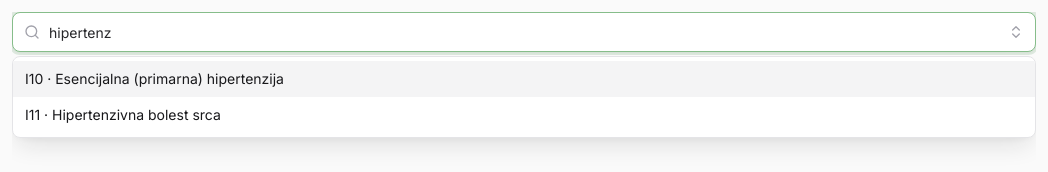
DiagnosisPicker › bira iz čestih po nazivu ili šifri, dodaje sopstvenu, proverava MKB oblik
Earlier steps of the test are not shown.
Click the option "I10 · Esencijalna (primarna) hipertenzija" at (154, 78), box x1=13 y1=61 x2=1035 y2=97
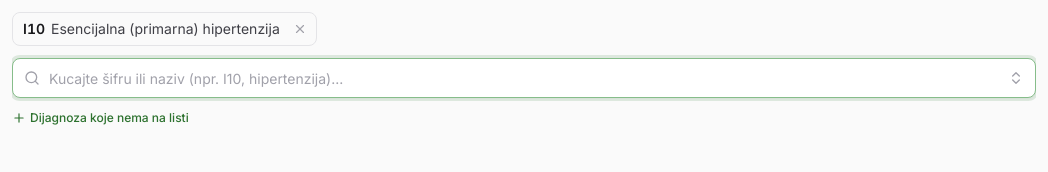
Expected: the list named "Izabrane dijagnoze" shows "I10", x1=23 y1=20 x2=45 y2=37
Click the button "Dijagnoza koje nema na listi" at (100, 118), box x1=12 y1=110 x2=189 y2=126
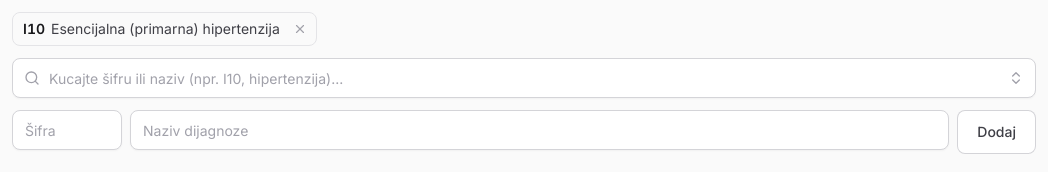
Type "HTN" into the field named "MKB-10 šifra" at (67, 130), box x1=12 y1=110 x2=122 y2=150
Type "Nešto" into the field labelled "Naziv dijagnoze" at (540, 130), box x1=130 y1=110 x2=949 y2=150
Then press Enter
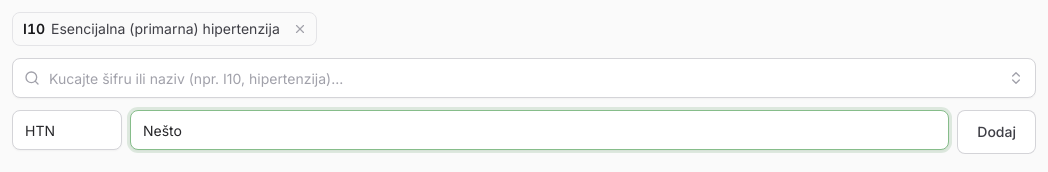
Replace the text in the field named "MKB-10 šifra" with "r41.0" at (67, 130), box x1=12 y1=110 x2=122 y2=150
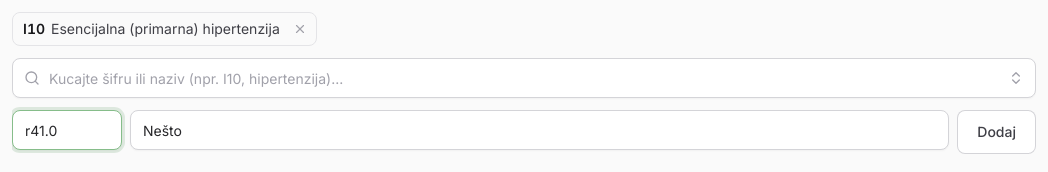
Click the button "Dodaj" at (997, 132), box x1=957 y1=110 x2=1036 y2=154
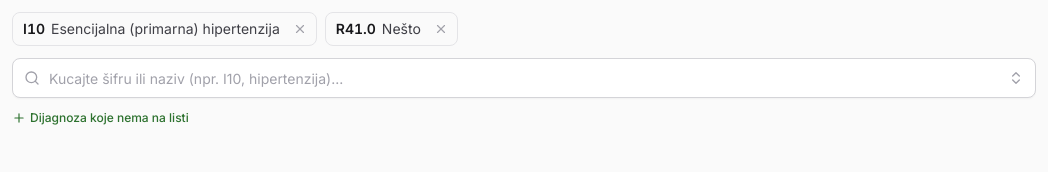
Expected: the list named "Izabrane dijagnoze" shows "R41.0", x1=336 y1=20 x2=376 y2=37
Click the button named "Ukloni Esencijalna (primarna) hipertenzija" at (300, 29), box x1=288 y1=17 x2=312 y2=41
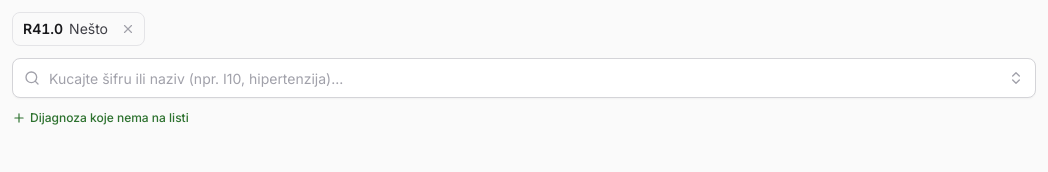
Expected: the list named "Izabrane dijagnoze" no longer shows "I10", x1=12 y1=12 x2=145 y2=46
